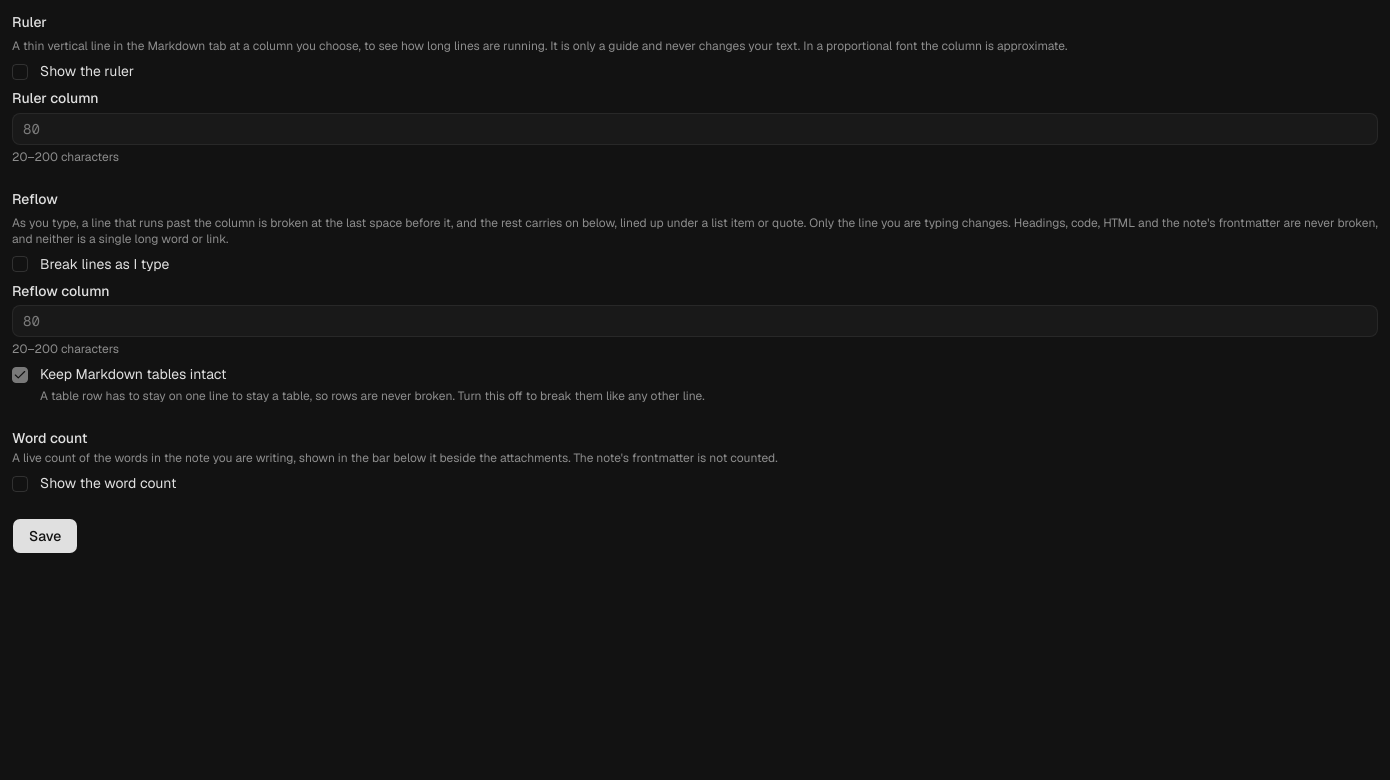
Test: writing settings › only lets a column be edited while its feature is on
Expected: the field labelled "Ruler column" is disabled, [12,112,1378,144]
Expected: the field labelled "Reflow column" is disabled, [12,305,1378,337]
Click the checkbox named "Show the ruler" next to "Show the ruler".
click(20, 72)  # box [12,64,28,80]
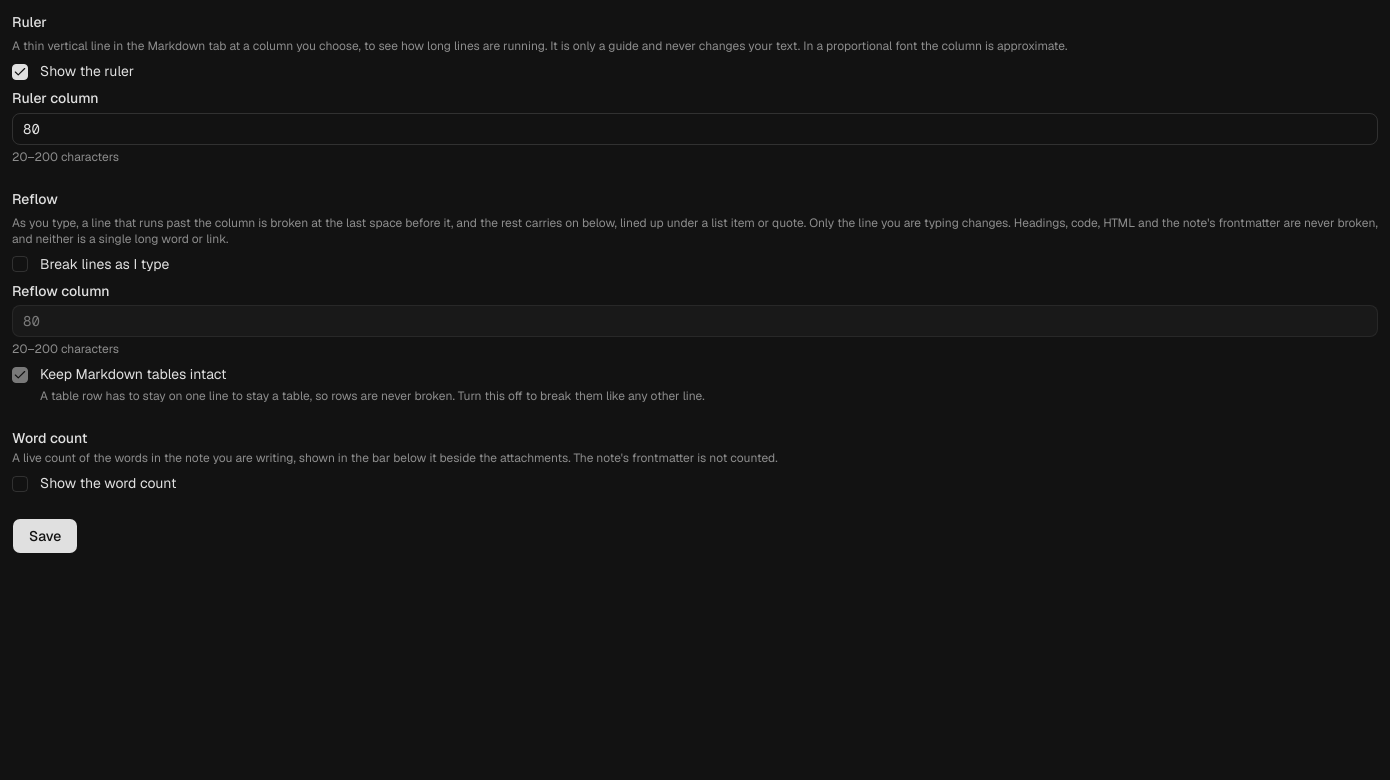
Click the checkbox named "Break lines as I type" next to "Break lines as I type".
click(20, 264)  # box [12,256,28,272]
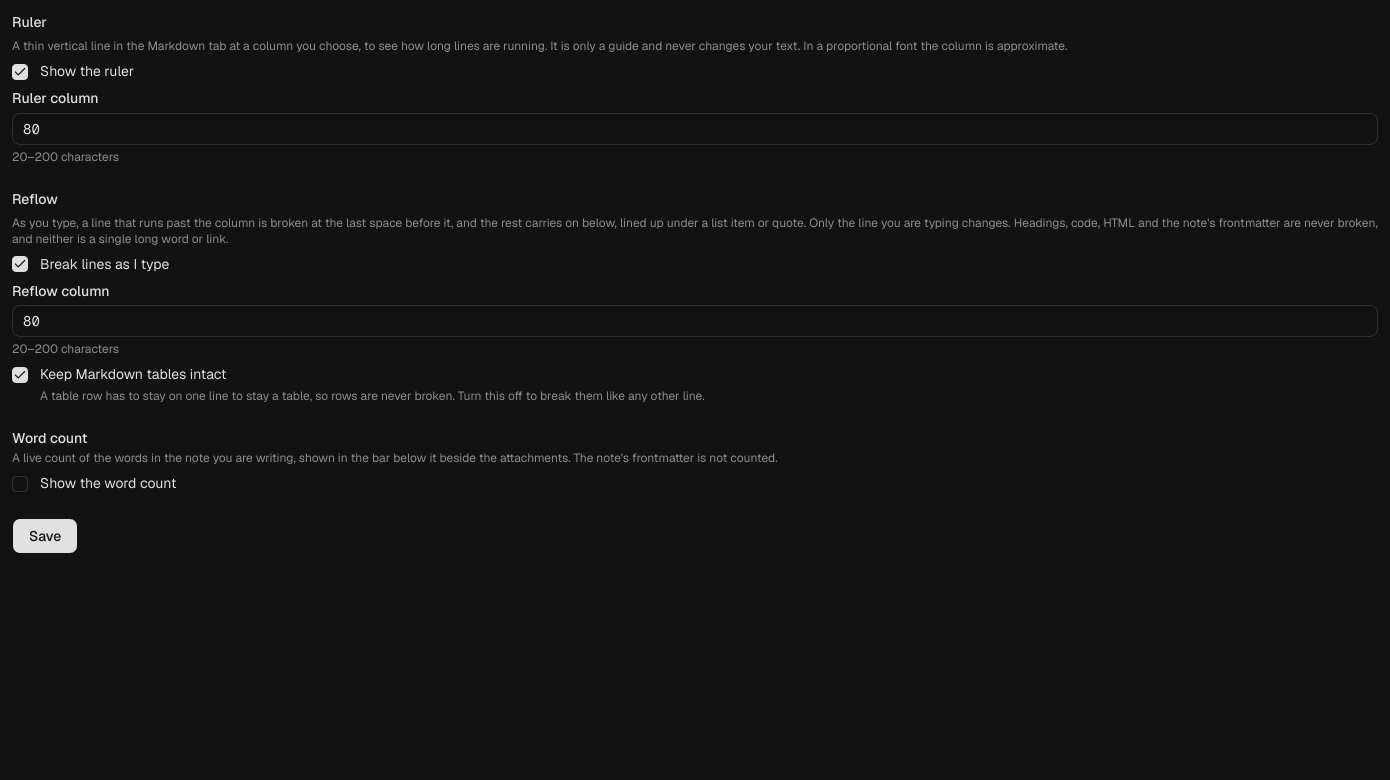
Expected: the field labelled "Ruler column" is enabled, [12,112,1378,144]
Expected: the field labelled "Reflow column" is enabled, [12,305,1378,337]
Expected: the checkbox named "Keep Markdown tables intact" next to "Keep Markdown tables intact" is enabled, [12,367,28,383]
